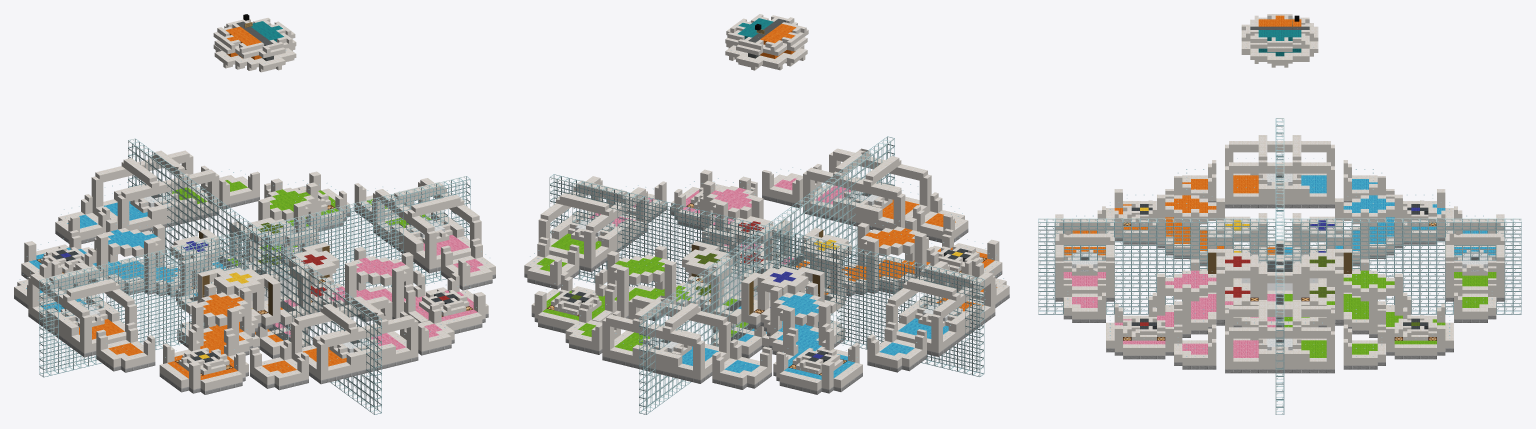
File: minecraft.obj
3 views of the same model, side by side, from view 1: azimuth 30°, elevation 25°; view 2: azimuth 150°, elevation 25°; view 3: azimuth 270°, elevation 25° (orthographic). The views are drawn at different scales.
Bounding box in the file's own units: 57 × 39.02 × 57.
